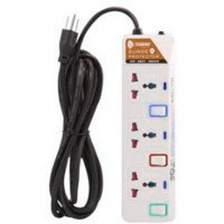three_eye_plug: (117, 32, 179, 224)
